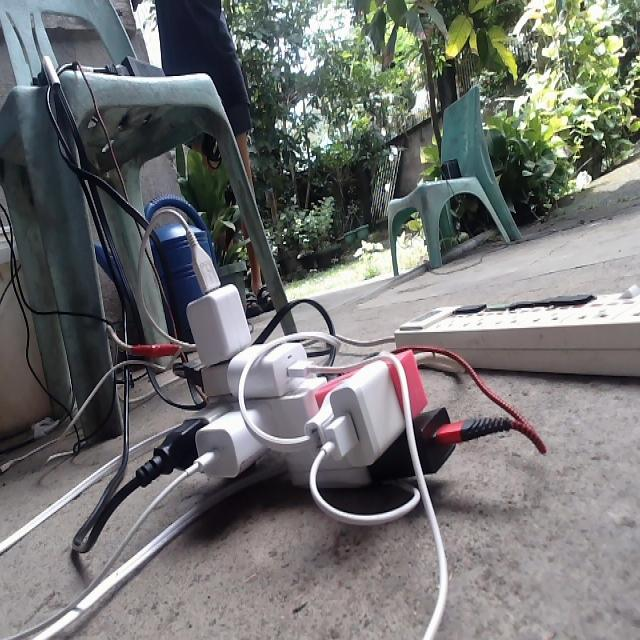-: (137, 226, 498, 486), (135, 224, 496, 484)
